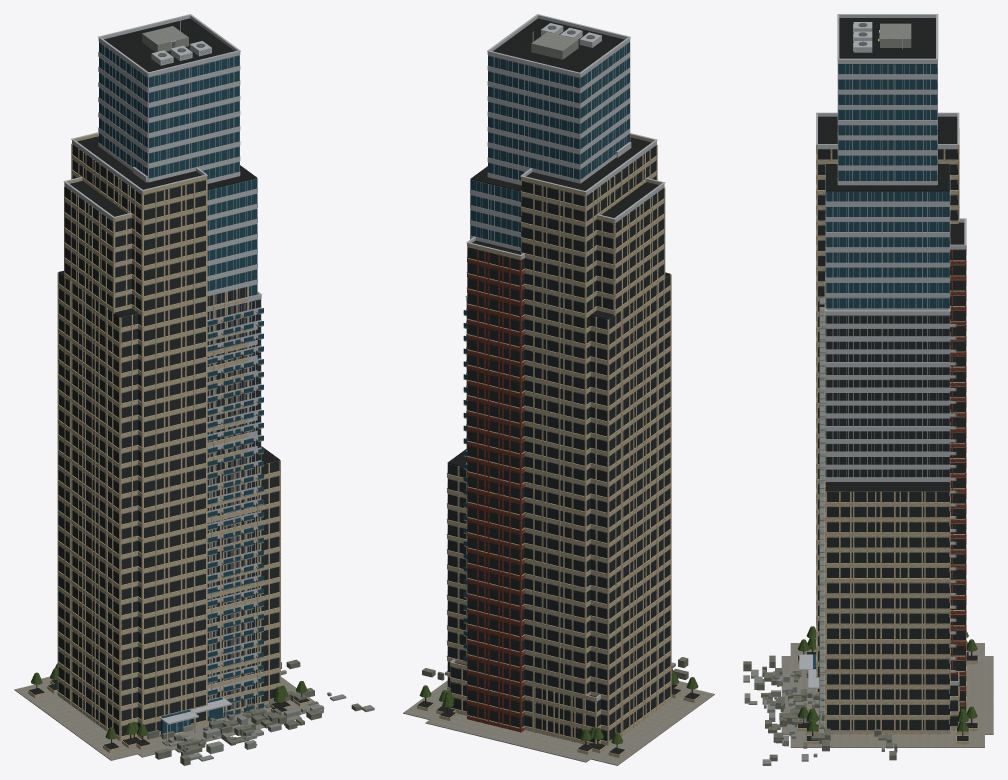
The model's file is highrise_02.glb.
3 views of the same model, side by side, from view 1: azimuth 30°, elevation 25°; view 2: azimuth 150°, elevation 25°; view 3: azimuth 270°, elevation 25° (orthographic).
Parts seen in each view (by area): view 1: main_tower/lod1_band_07 (×3), main_tower/roof_plant (×3), main_tower/lod1_band_06 (×2), main_tower/lod1_band_04 (×2), main_tower/lod1_band_05 (×2), main_tower/lod1_band_01 (×2), main_tower/lod1_band_02 (×2), main_tower/lod1_band_03 (×2), main_tower/lod1_band_09, main_tower/lod1_band_00 (×2), main_tower/lod1_band_10, main_tower/lod1_band_08 (×2) (+93 smaller); view 2: main_tower/roof_plant (×3), ground/paving (×3), main_tower/lod1_band_09, main_tower/lod1_band_03, main_tower/lod1_band_02, main_tower/lod1_band_01, main_tower/lod1_band_06, main_tower/lod1_band_05, main_tower/lod1_band_04, main_tower/lod1_band_10, main_tower/lod1_band_00, main_tower/lod1_band_08 (×2) (+129 smaller); view 3: main_tower/lod1_band_07 (×2), main_tower/lod1_band_01, main_tower/lod1_band_02, main_tower/lod1_band_03, main_tower/lod1_band_00, main_tower/roof_plant (×4), ground/paving (×3), main_tower/lod1_band_06 (×2), main_tower/lod1_band_08, main_tower/floor_30 (×2), main_tower/floor_28 (×2), main_tower/floor_31 (×2) (+58 smaller).
Boxes of the visible parts, left/top/right/bottom form: main_tower/lod1_band_07 (×3): left=65, top=217, right=261, bottom=364; main_tower/roof_plant (×3): left=64, top=15, right=240, bottom=222; main_tower/lod1_band_06 (×2): left=58, top=272, right=261, bottom=415; main_tower/lod1_band_04 (×2): left=58, top=394, right=261, bottom=517; main_tower/lod1_band_05 (×2): left=58, top=334, right=261, bottom=466; main_tower/lod1_band_01 (×2): left=57, top=575, right=280, bottom=681; main_tower/lod1_band_02 (×2): left=57, top=515, right=280, bottom=620; main_tower/lod1_band_03 (×2): left=57, top=454, right=280, bottom=568; main_tower/lod1_band_09: left=98, top=88, right=240, bottom=181; main_tower/lod1_band_00 (×2): left=57, top=636, right=280, bottom=741; main_tower/lod1_band_10: left=98, top=42, right=240, bottom=122; main_tower/lod1_band_08 (×2): left=64, top=162, right=257, bottom=252; main_tower/roof_plant (×3): left=487, top=15, right=664, bottom=223; ground/paving (×3): left=403, top=680, right=714, bottom=765; main_tower/lod1_band_09: left=487, top=88, right=630, bottom=183; main_tower/lod1_band_03: left=447, top=458, right=670, bottom=563; main_tower/lod1_band_02: left=447, top=519, right=670, bottom=624; main_tower/lod1_band_01: left=447, top=580, right=670, bottom=685; main_tower/lod1_band_06: left=590, top=274, right=670, bottom=380; main_tower/lod1_band_05: left=590, top=336, right=670, bottom=441; main_tower/lod1_band_04: left=590, top=397, right=670, bottom=502; main_tower/lod1_band_10: left=488, top=42, right=630, bottom=123; main_tower/lod1_band_00: left=447, top=641, right=670, bottom=745; main_tower/lod1_band_08 (×2): left=470, top=163, right=664, bottom=254; main_tower/lod1_band_07 (×2): left=819, top=237, right=950, bottom=367; main_tower/lod1_band_01: left=827, top=612, right=950, bottom=674; main_tower/lod1_band_02: left=827, top=552, right=950, bottom=613; main_tower/lod1_band_03: left=825, top=482, right=950, bottom=552; main_tower/lod1_band_00: left=827, top=673, right=950, bottom=734; main_tower/roof_plant (×4): left=825, top=15, right=950, bottom=315; ground/paving (×3): left=781, top=643, right=993, bottom=747; main_tower/lod1_band_06 (×2): left=819, top=298, right=950, bottom=418; main_tower/lod1_band_08: left=825, top=166, right=950, bottom=237; main_tower/floor_30 (×2): left=819, top=252, right=956, bottom=341; main_tower/floor_28 (×2): left=819, top=282, right=956, bottom=367; main_tower/floor_31 (×2): left=819, top=236, right=956, bottom=328.
Bounding box in the file's own units: 65.57 × 168 × 56.72.
Materials: 17 (17 with a texture image).
